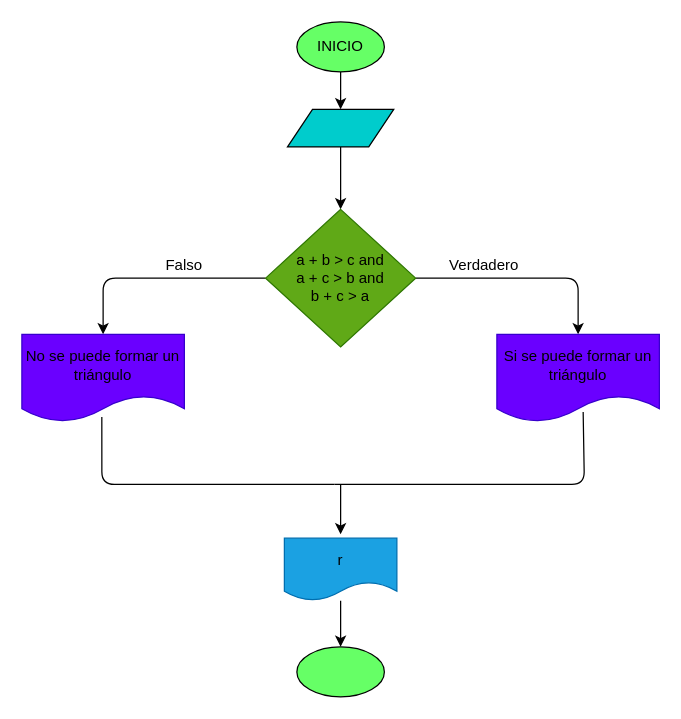
Image size: 681x719. Some labels were removed from this diagram. Here are the shapes that lost their labels. From the top down, the centre of each, then its label:
the point at 340,127: a, b, c
the point at 340,671: FIN
